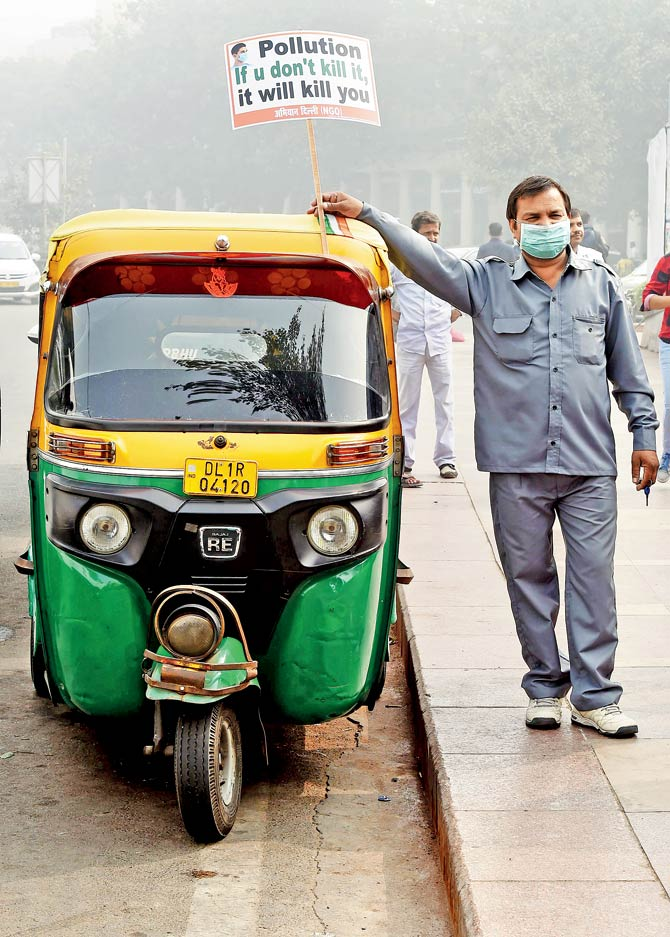doublelinenumberplate: (182, 455, 259, 501)
